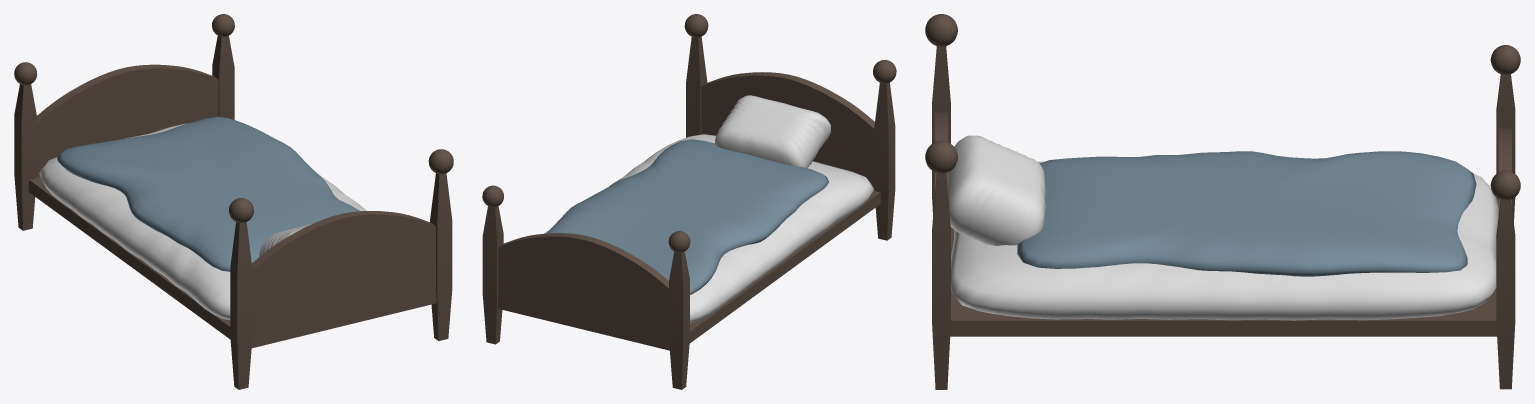
File: Lit3_1.fbx
3 renders of one model, left to right at view 1: azimuth 30°, elevation 25°; view 2: azimuth 150°, elevation 25°; view 3: azimuth 270°, elevation 25°, orthographic. The views are drawn at different scales.
Visible parts, largest first — view 1: chambre_items:pCylinder245, chambre_items:pCube954, chambre_items:pCube959, chambre_items:pCylinder247, chambre_items:pCube955, chambre_items:pCube956, chambre_items:pCube957, chambre_items:pCube960, chambre_items:pCube958, chambre_items:pCylinder246; view 2: chambre_items:pCylinder245, chambre_items:pCube959, chambre_items:pCylinder247, chambre_items:pCube954, chambre_items:pCylinder246, chambre_items:pCube955, chambre_items:pCube957, chambre_items:pCube960, chambre_items:pCube958, chambre_items:pCube956; view 3: chambre_items:pCylinder245, chambre_items:pCylinder247, chambre_items:pCube960, chambre_items:pCylinder246, chambre_items:pCube956, chambre_items:pCube958, chambre_items:pCube955, chambre_items:pCube957, chambre_items:pCube959.
Part boxes in pixels (left/top/right/bottom): chambre_items:pCylinder245: left=56, top=116, right=360, bottom=271; chambre_items:pCube954: left=251, top=211, right=436, bottom=348; chambre_items:pCube959: left=37, top=64, right=218, bottom=176; chambre_items:pCylinder247: left=39, top=123, right=366, bottom=319; chambre_items:pCube955: left=229, top=198, right=253, bottom=389; chambre_items:pCube956: left=428, top=149, right=453, bottom=340; chambre_items:pCube957: left=14, top=62, right=37, bottom=230; chambre_items:pCube960: left=28, top=176, right=230, bottom=339; chambre_items:pCube958: left=212, top=14, right=234, bottom=119; chambre_items:pCylinder246: left=259, top=223, right=312, bottom=256; chambre_items:pCylinder245: left=547, top=139, right=828, bottom=294; chambre_items:pCube959: left=497, top=233, right=669, bottom=350; chambre_items:pCylinder247: left=544, top=134, right=873, bottom=323; chambre_items:pCube954: left=701, top=72, right=874, bottom=189; chambre_items:pCylinder246: left=715, top=95, right=830, bottom=167; chambre_items:pCube955: left=873, top=60, right=896, bottom=240; chambre_items:pCube957: left=668, top=231, right=690, bottom=389; chambre_items:pCube960: left=689, top=190, right=880, bottom=343; chambre_items:pCube958: left=482, top=185, right=503, bottom=344; chambre_items:pCube956: left=684, top=14, right=708, bottom=137; chambre_items:pCylinder245: left=1017, top=151, right=1476, bottom=276; chambre_items:pCylinder247: left=951, top=161, right=1498, bottom=320; chambre_items:pCube960: left=950, top=199, right=1498, bottom=336; chambre_items:pCylinder246: left=948, top=135, right=1045, bottom=245; chambre_items:pCube956: left=925, top=141, right=957, bottom=389; chambre_items:pCube958: left=1490, top=170, right=1520, bottom=389; chambre_items:pCube955: left=925, top=14, right=957, bottom=215; chambre_items:pCube957: left=1490, top=45, right=1520, bottom=222; chambre_items:pCube959: left=1498, top=128, right=1511, bottom=214.
Size of the model in its own units: 82.19 by 66.59 by 147.
